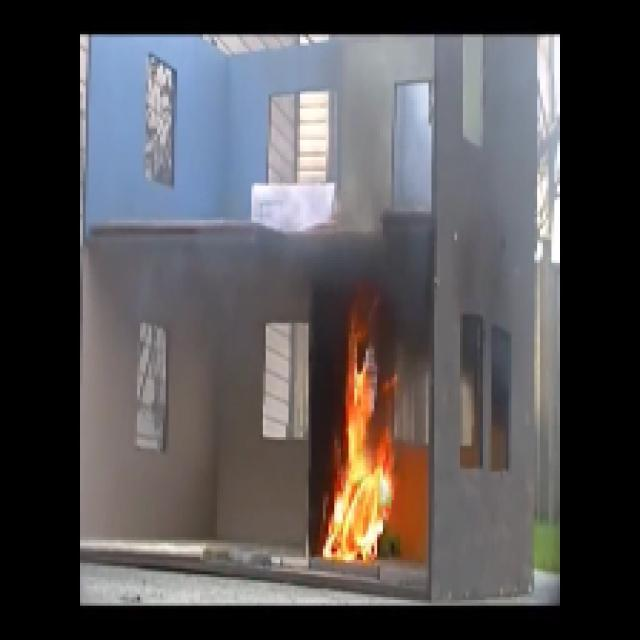Fire: (326, 348, 398, 562)
Smoke: (316, 233, 425, 305)
